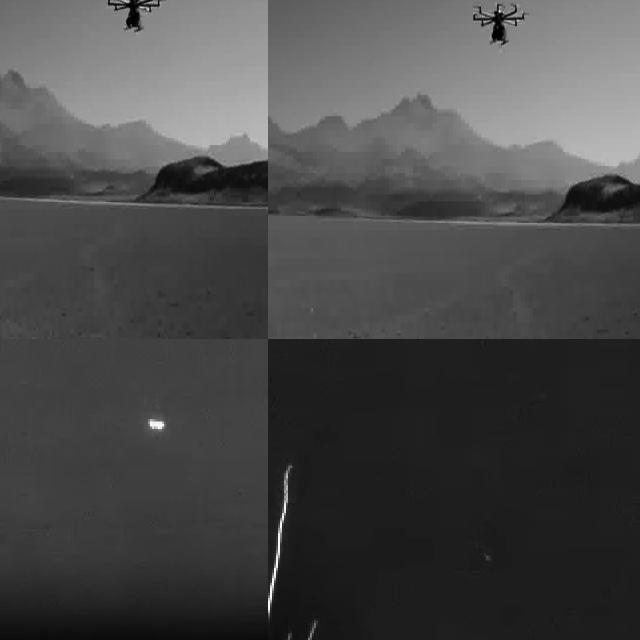0: (480, 546, 502, 576)
1: (140, 414, 176, 444)
drone: (472, 2, 528, 50), (102, 0, 165, 40)
